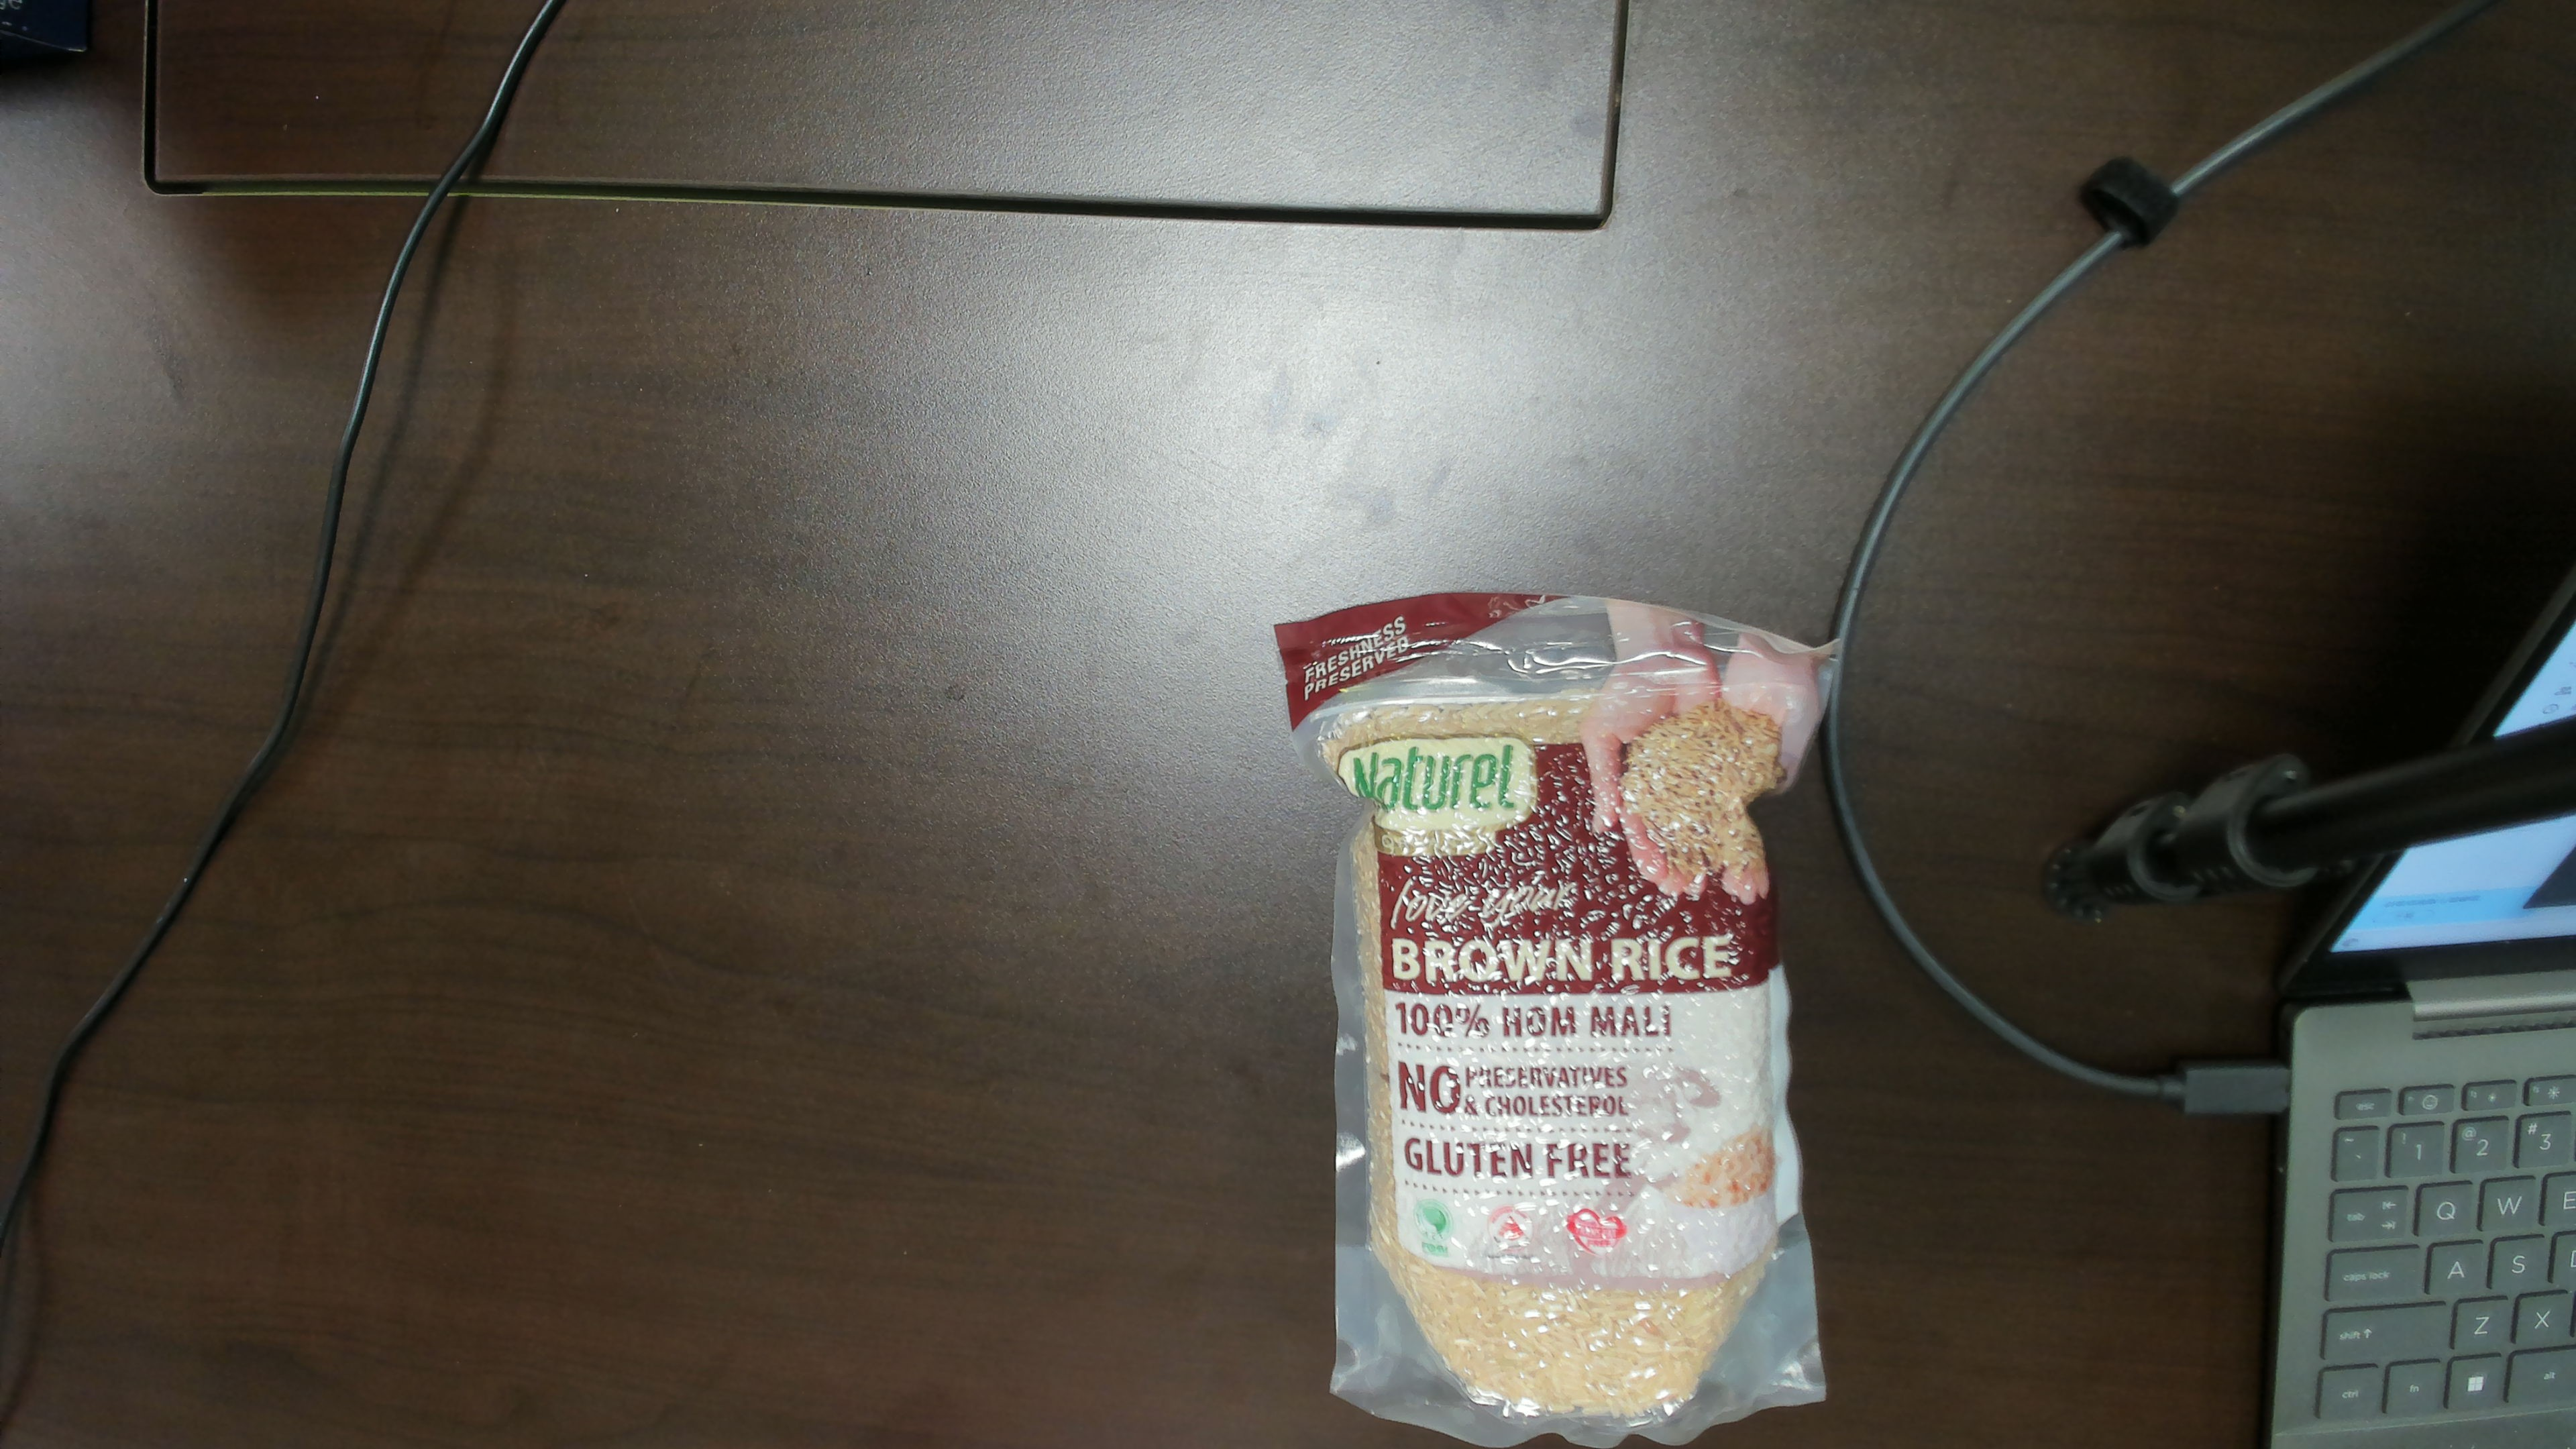Rice(brown-others)_700-799g_NonHalal_Healthy: (1329, 616, 1805, 1424)
